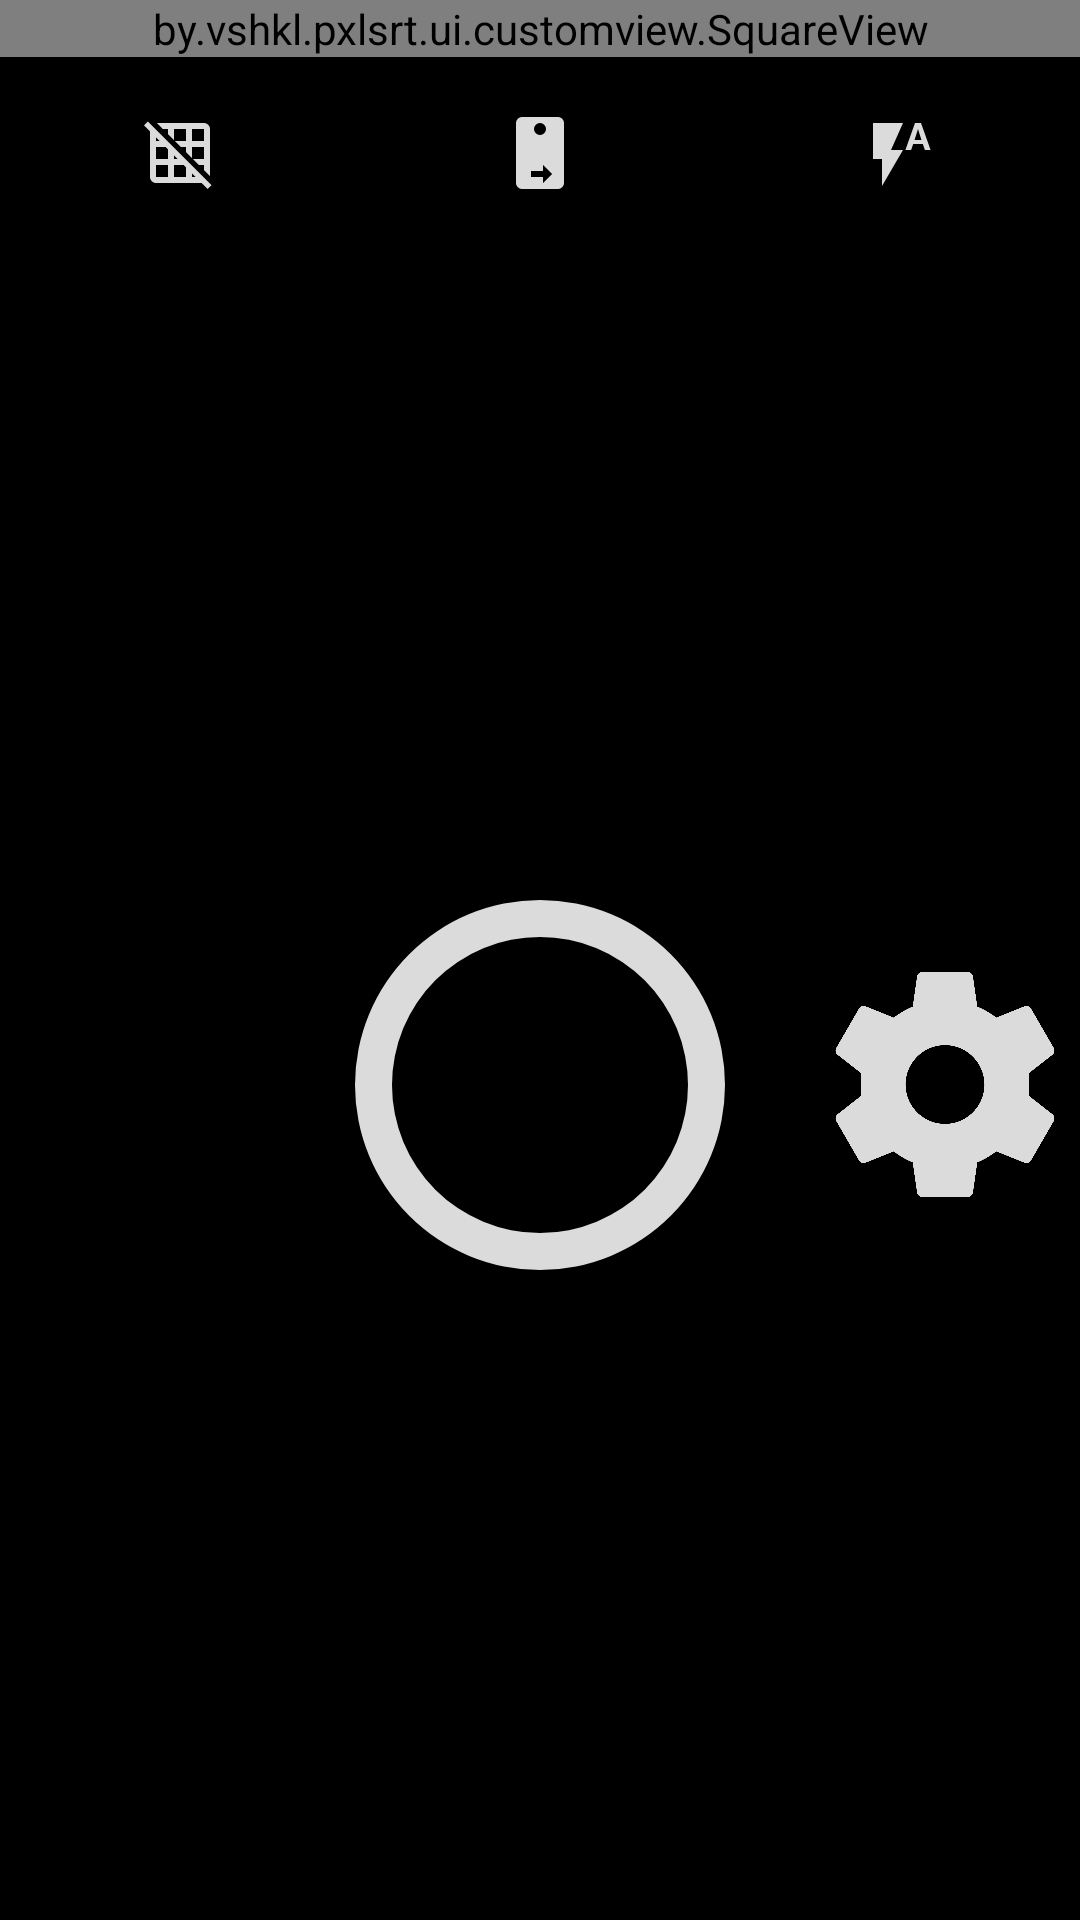

Icons on this 1080px x 1920px Android screen, each with the point to tap as (x=x, y=y):
camera flash auto: (x=902, y=154)
camera grid off: (x=178, y=155)
camera rear: (x=540, y=153)
settings: (x=944, y=1084)
